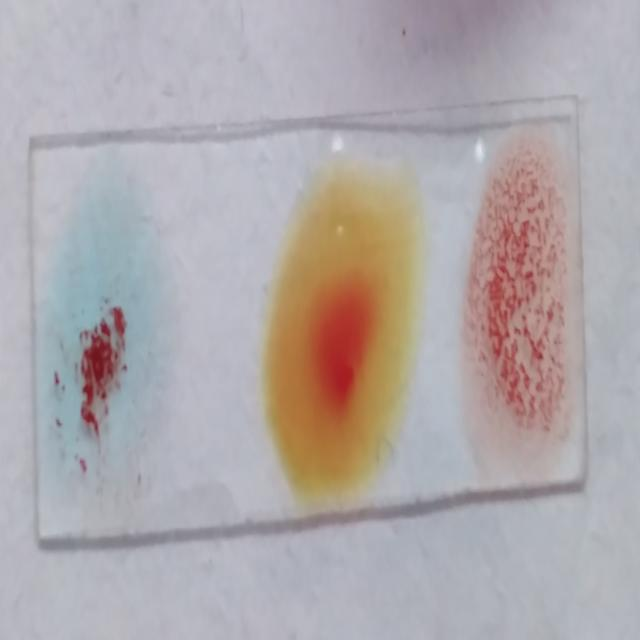A: (41, 173, 158, 487)
D: (466, 138, 576, 461)
